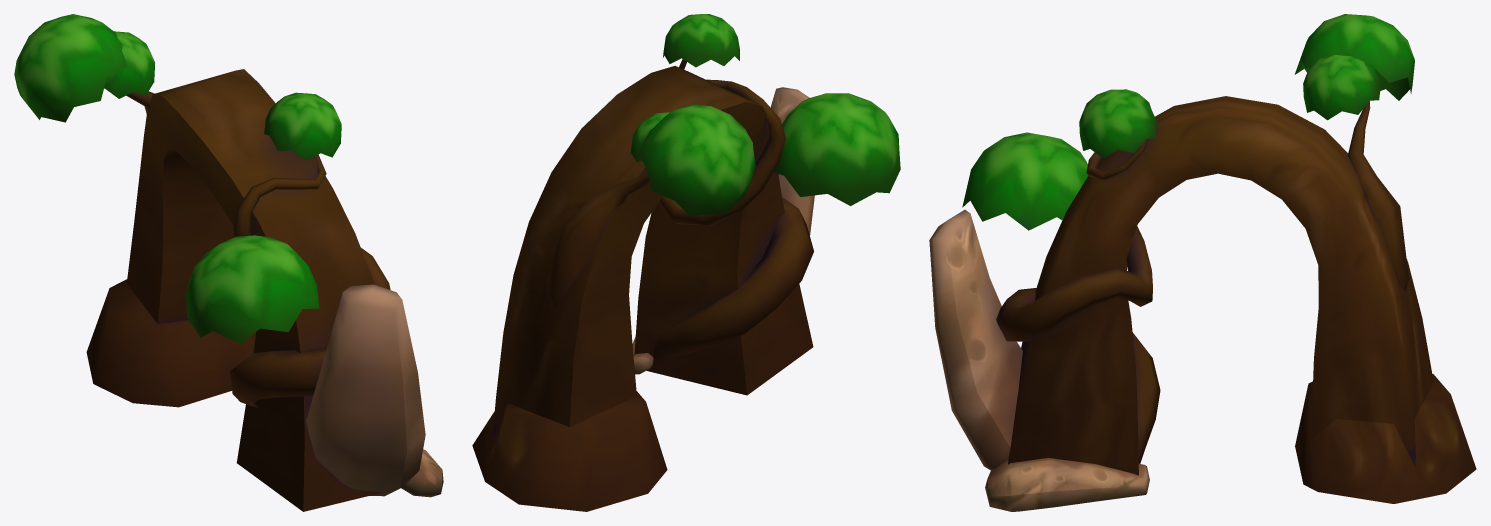
Rendered from jungle_portal.glb.
The picture shows the model from 3 angles, left to right: view 1: azimuth 30°, elevation 25°; view 2: azimuth 150°, elevation 25°; view 3: azimuth 270°, elevation 25°; orthographic projection. The views are drawn at different scales.
Parts seen in each view (by area): view 1: Cube.005; view 2: Cube.005; view 3: Cube.005.
Part boxes in pixels (x1=…): Cube.005: x1=14, y1=14, x2=443, y2=511; Cube.005: x1=472, y1=14, x2=900, y2=511; Cube.005: x1=929, y1=14, x2=1476, y2=511.
Size of the model in its own units: 1.6 by 2.31 by 2.87.
1 material, 1 textured.
